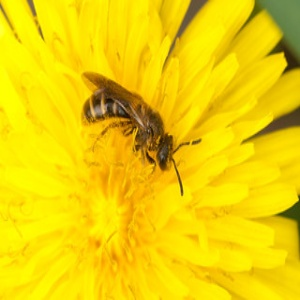bee: (81, 65, 206, 197)
